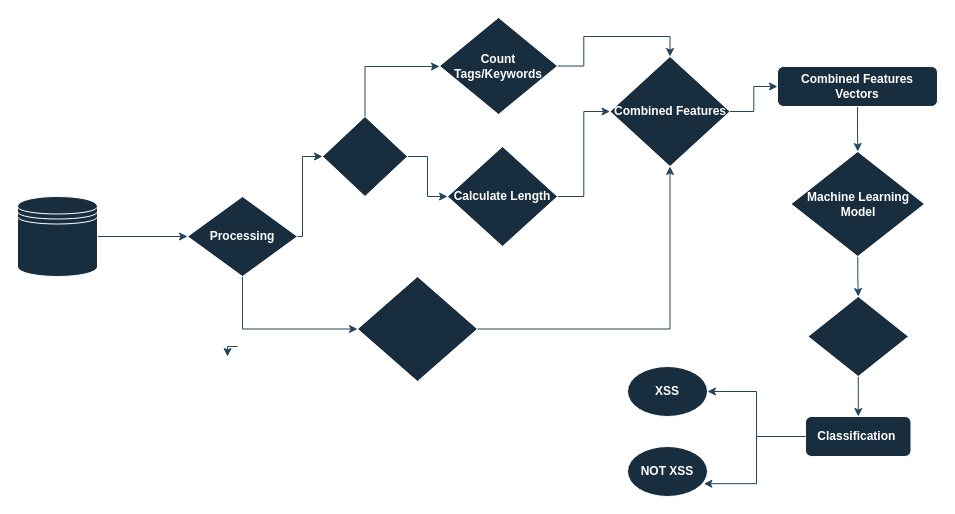
Some shapes in this 955 by 514 pixel diagram are drawn without their labels. The box of each missing label's shape, as (x1, y1, x2, y2) in pixels:
Create Doc2Vec Vector: (356, 276, 478, 382)
Extract Features: (322, 116, 408, 196)
Prediction: (807, 296, 908, 376)
Protential XSS files: (16, 196, 98, 276)
